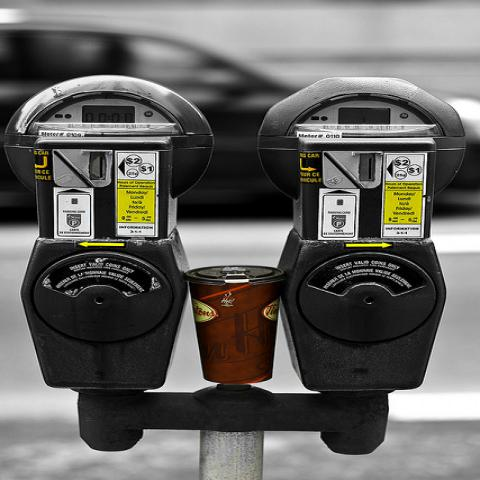car: (0, 18, 479, 221)
